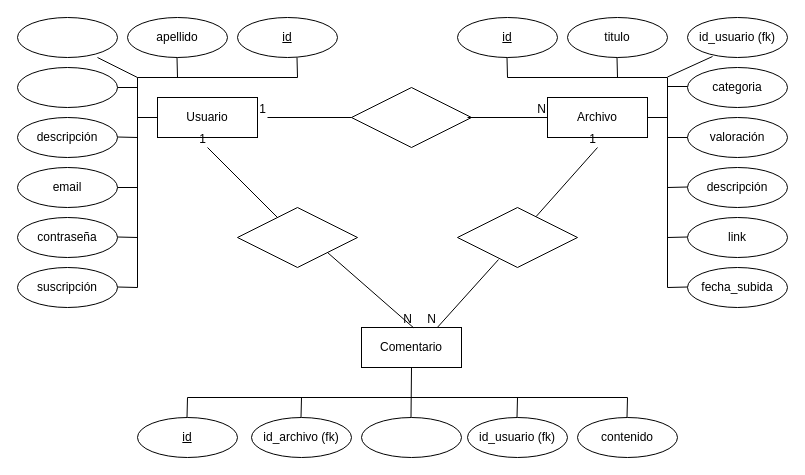
This 805x475 diagram has some shape labels left out. Each missing label, with the centre of its shape:
"fecha" belongs at pixel 411 437.
"nombre" belongs at pixel 67 37.
"pertenece" belongs at pixel 517 237.
"publica" belongs at pixel 297 237.
"rol" belongs at pixel 67 87.
"sube" belongs at pixel 411 117.
